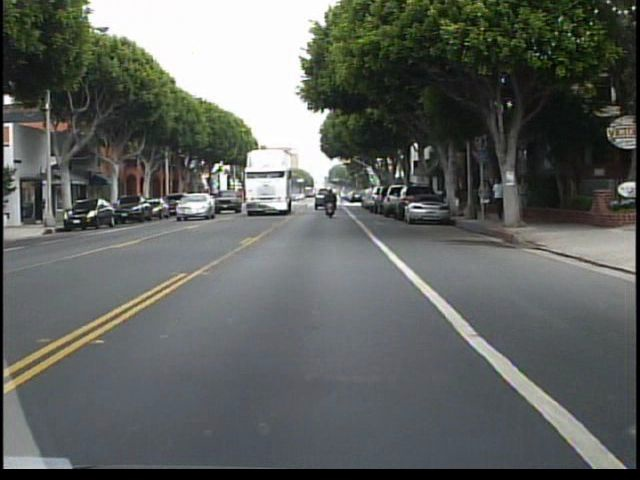person: (477, 175, 494, 223), (490, 175, 506, 224), (322, 183, 340, 220), (518, 172, 526, 224)
